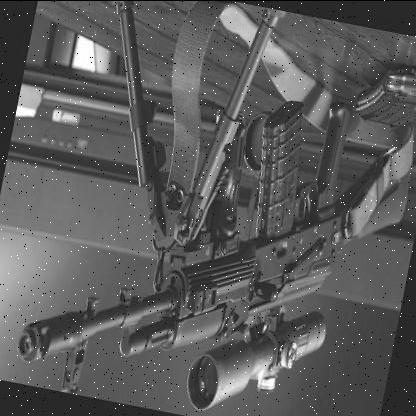rifle: (17, 41, 416, 416)
